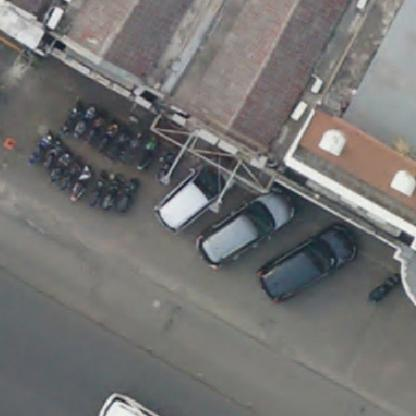car: (266, 217, 356, 306), (209, 186, 291, 271), (162, 166, 220, 227), (95, 395, 165, 415)
motorcycle: (366, 270, 400, 300), (115, 176, 140, 213), (26, 125, 51, 160), (58, 96, 81, 133), (73, 101, 98, 134), (71, 163, 91, 202), (137, 136, 156, 177), (99, 117, 118, 153), (93, 169, 109, 204), (46, 138, 63, 168), (158, 146, 174, 177), (112, 129, 128, 159), (54, 154, 71, 182), (63, 160, 78, 191), (91, 111, 103, 145)
